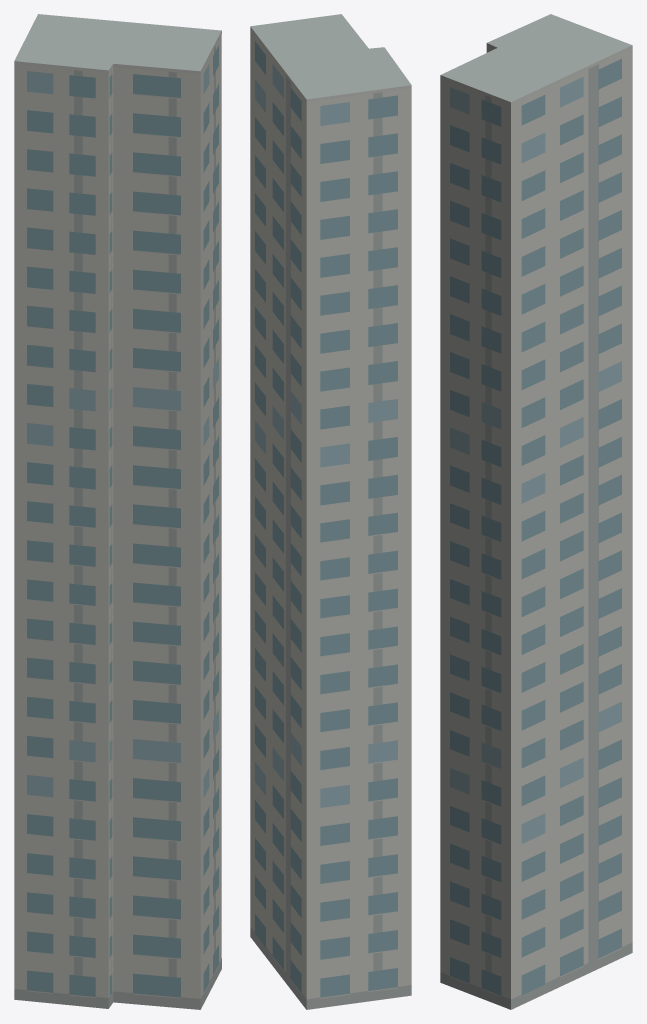
File: survey-upis-32714767.glb
3 views of the same model, side by side, from view 1: azimuth 30°, elevation 25°; view 2: azimuth 150°, elevation 25°; view 3: azimuth 270°, elevation 25° (orthographic). The views are drawn at different scales.
Visible parts, largest first — view 1: survey-upis-32714767.tmp; view 2: survey-upis-32714767.tmp; view 3: survey-upis-32714767.tmp.
Part boxes in pixels (x1,y1,x2,y2): survey-upis-32714767.tmp: (14, 14, 221, 1009); survey-upis-32714767.tmp: (250, 14, 411, 1009); survey-upis-32714767.tmp: (440, 14, 632, 1009).
Size of the model in its own units: 15.27 by 73.2 by 14.05.
